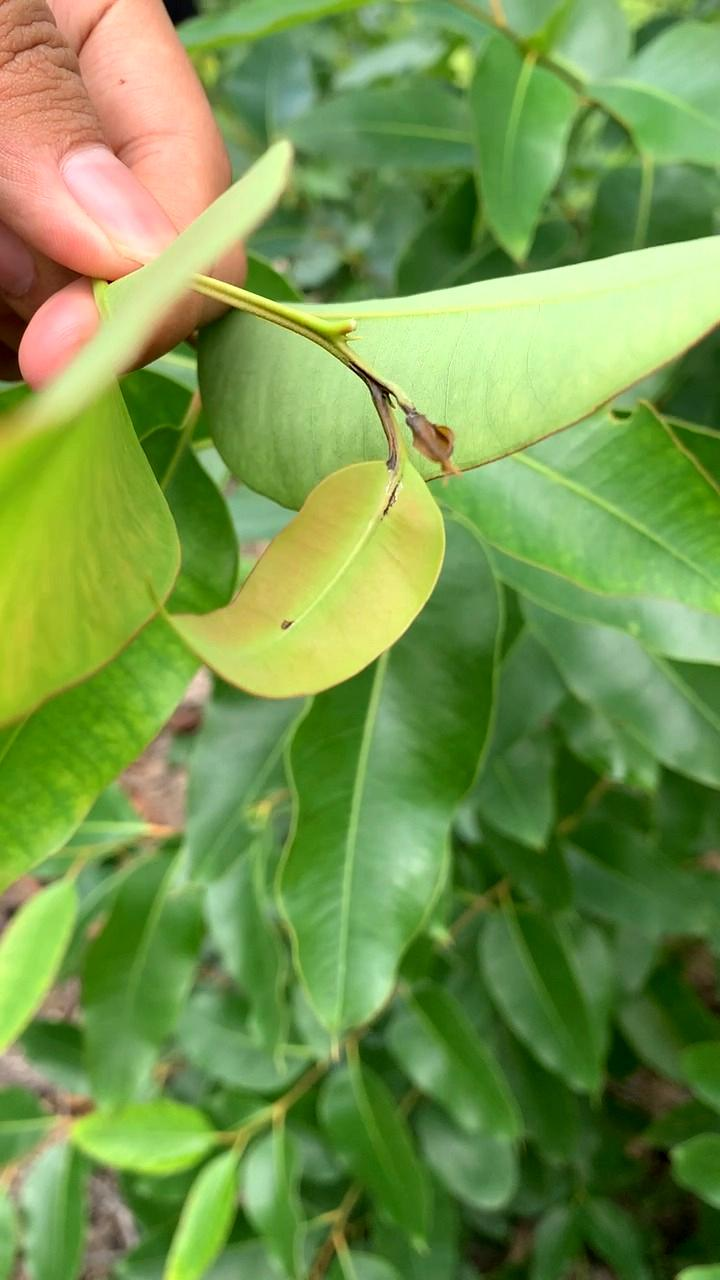Helopeltis-Withered Sprout: (347, 358, 478, 544)
